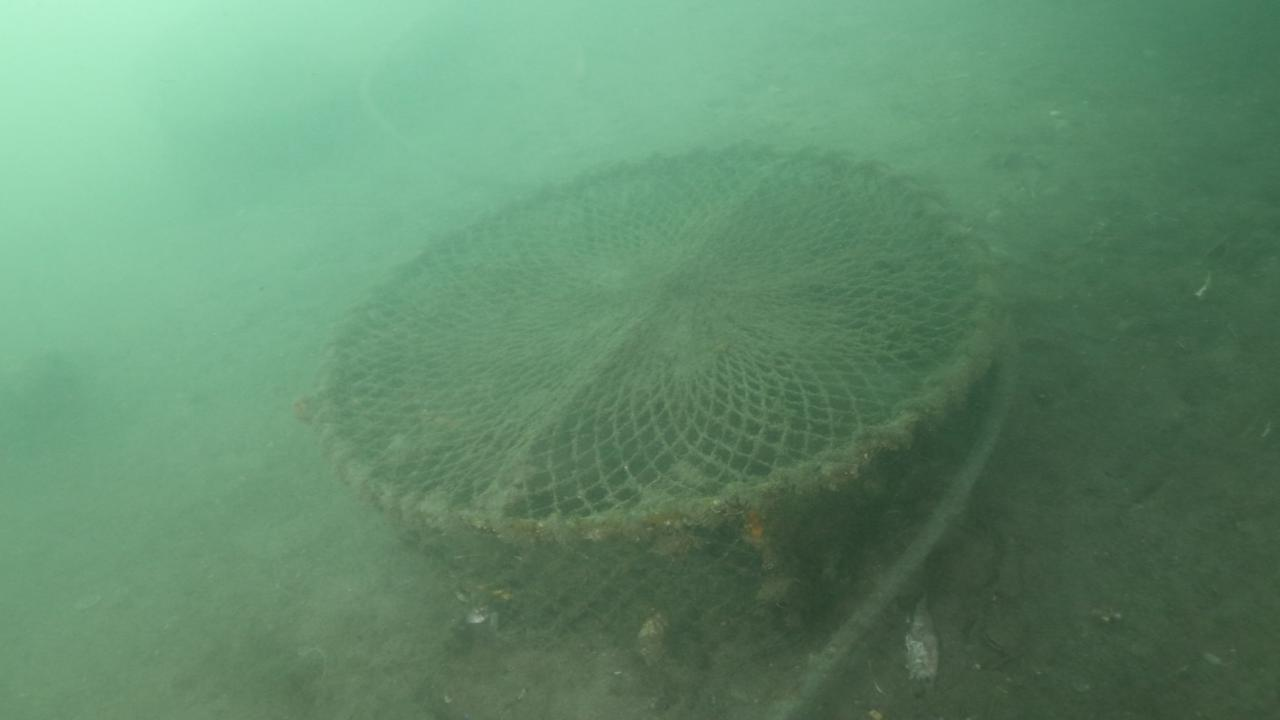circular fish trap: (314, 140, 997, 648)
